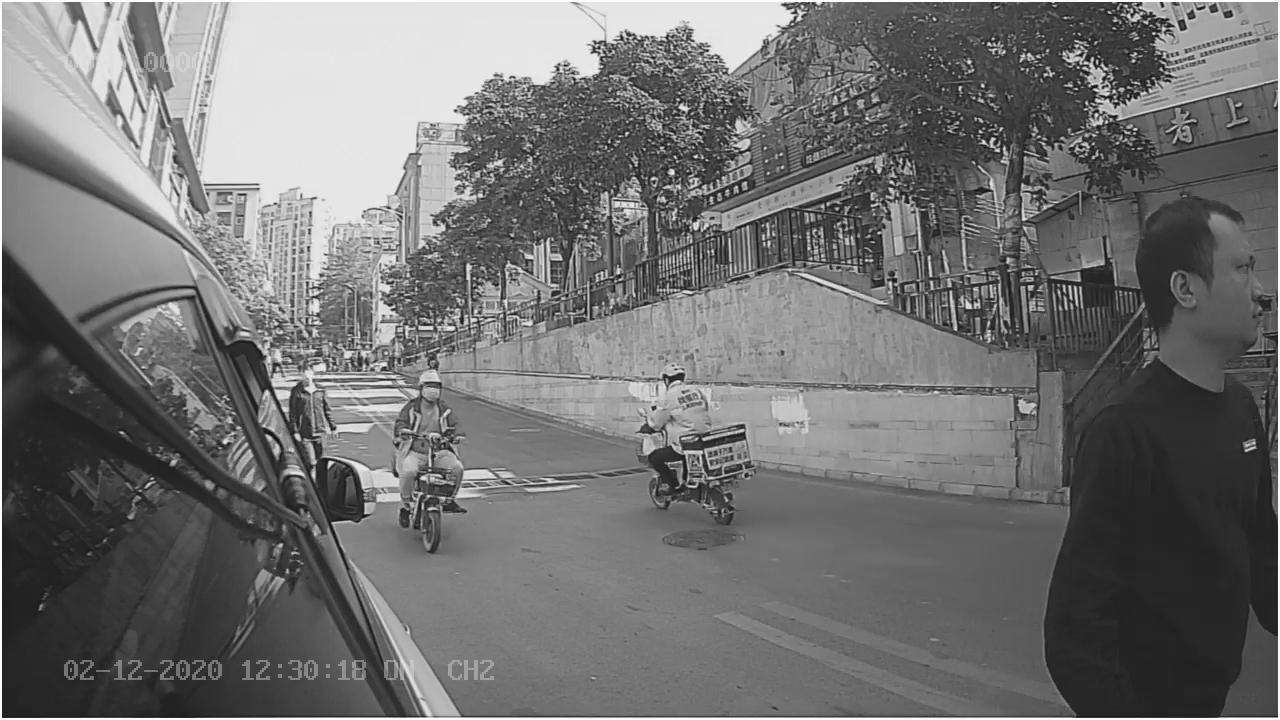person: (1052, 181, 1277, 547)
